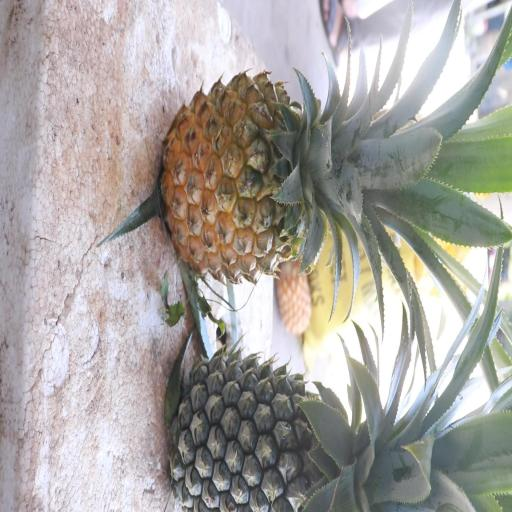Pineapple - v8 v1: (163, 55, 448, 276)
